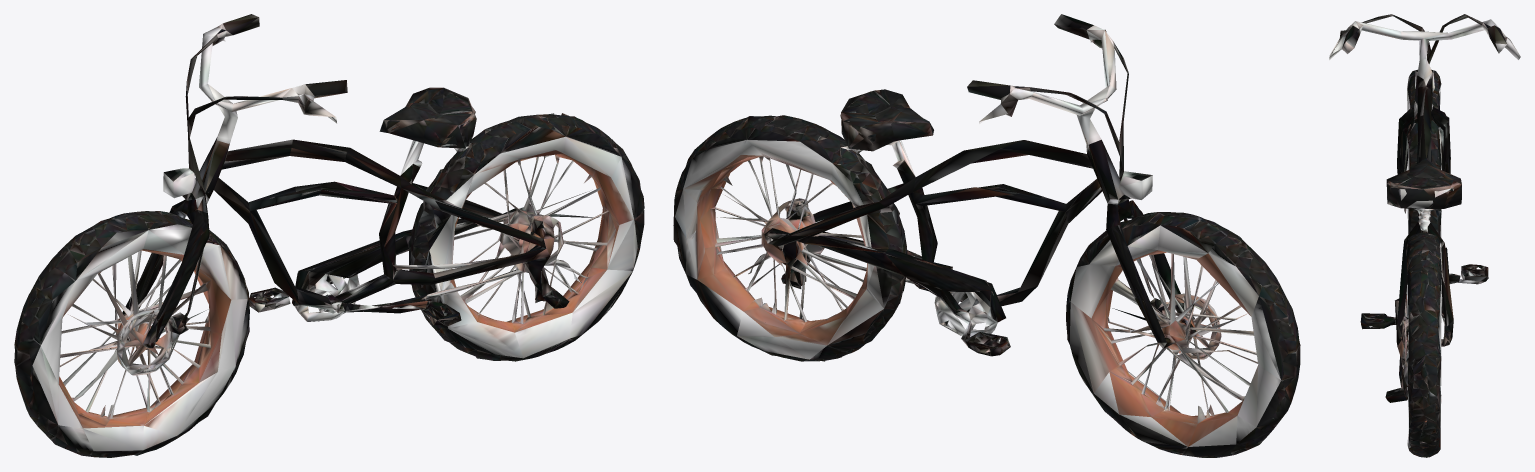
File: bike1.glb
3 renders of one model, left to right at view 1: azimuth 30°, elevation 25°; view 2: azimuth 150°, elevation 25°; view 3: azimuth 270°, elevation 25°, orthographic. The views are drawn at different scales.
Visible parts, largest first — view 1: LO.001; view 2: LO.001; view 3: LO.001.
Part boxes in pixels (x1,y1,x2,y2): LO.001: (14,14,644,457); LO.001: (673,14,1300,457); LO.001: (1329,14,1520,457).
Bounding box in the file's own units: 1.9 × 1.07 × 0.5955.
Materials: 1 (1 with a texture image).
